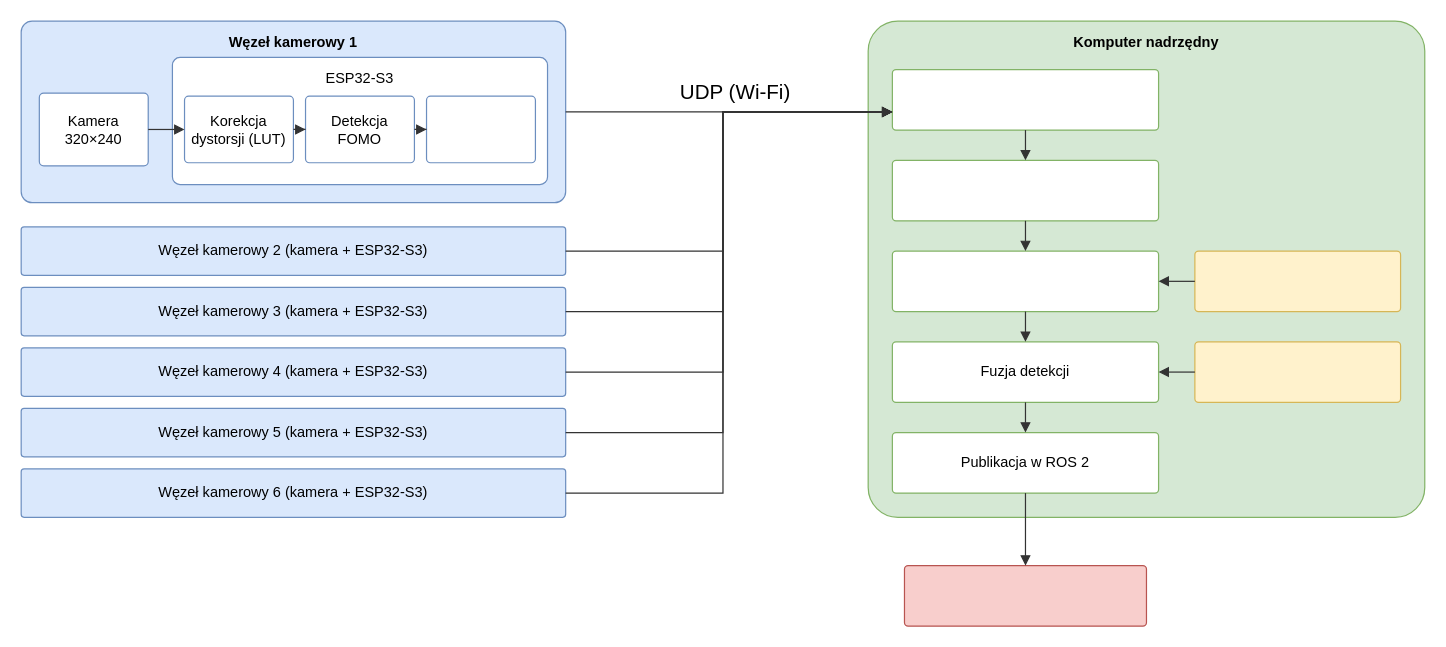
Some shapes in this 1446 by 647 pixel diagram are drawn without their labels. Each missing label, with the box of its shape:
Odbiór i buforowanie pakietów UDP: (891, 68, 1159, 130)
Odometria robota (ROS 2): (1194, 341, 1401, 402)
Parametry kalibracji (K96, orientacja kamer): (1194, 250, 1401, 312)
Pozostałe moduły oprogramowania robota: (903, 564, 1146, 626)
Przeliczenie detekcji na azymut w układzie robota: (891, 250, 1159, 312)
Synchronizacja czasu: (891, 159, 1159, 221)
Wysyłka UDP: (425, 95, 535, 163)
